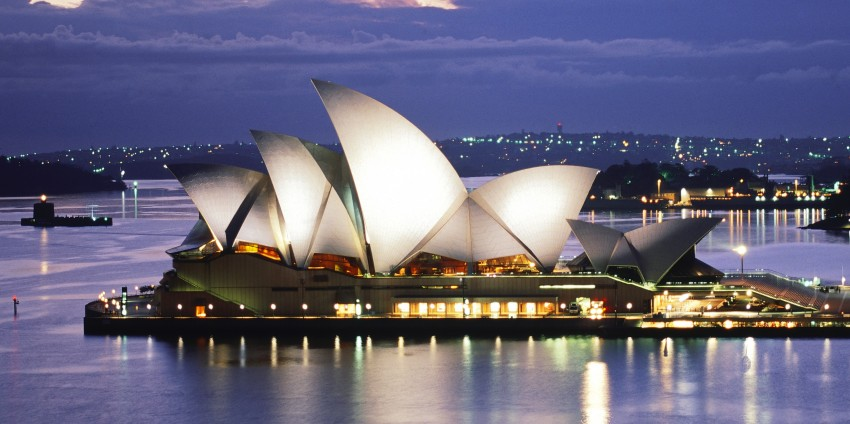opera house: (130, 62, 742, 303)
